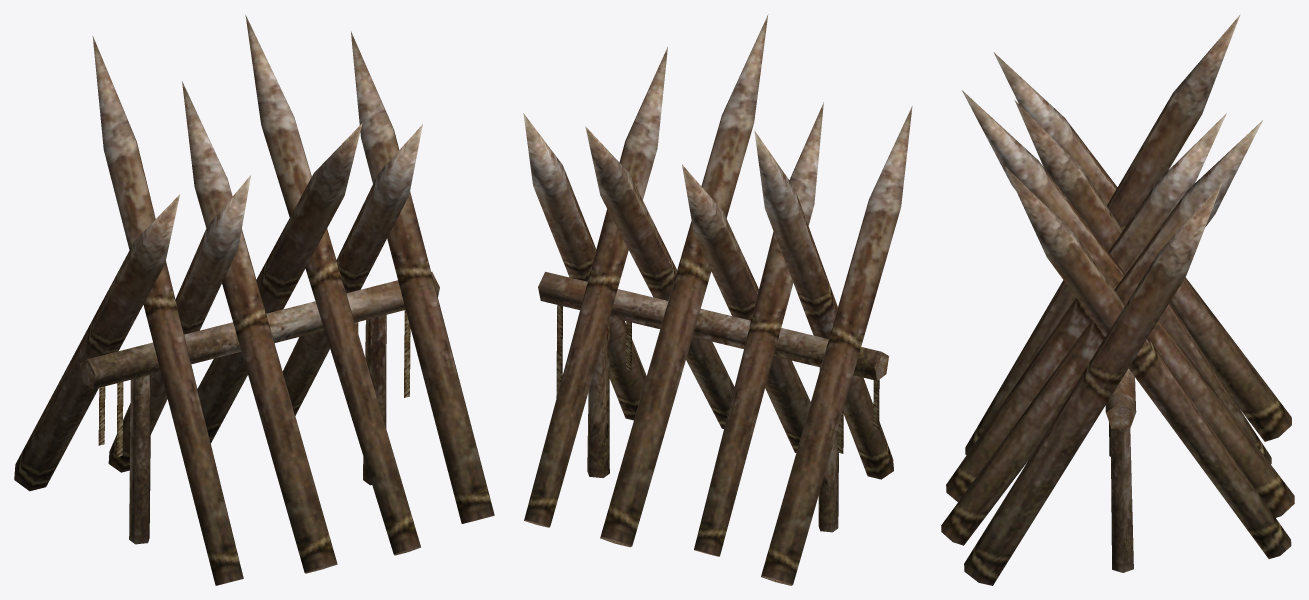
File: d_sgsj_shouyou_zhalan01_qt.FBX
3 renders of one model, left to right at view 1: azimuth 30°, elevation 25°; view 2: azimuth 150°, elevation 25°; view 3: azimuth 270°, elevation 25°, orthographic. The views are drawn at different scales.
Parts seen in each view (by area): view 1: d_sg_shouyou_wuqijia01_qt; view 2: d_sg_shouyou_wuqijia01_qt; view 3: d_sg_shouyou_wuqijia01_qt.
Boxes of the visible parts, x1,y1,x2,y2 form: d_sg_shouyou_wuqijia01_qt: [14, 15, 494, 585]; d_sg_shouyou_wuqijia01_qt: [523, 14, 912, 585]; d_sg_shouyou_wuqijia01_qt: [941, 14, 1294, 585].
Bounding box in the file's own units: 1.82 × 2.29 × 1.63.
